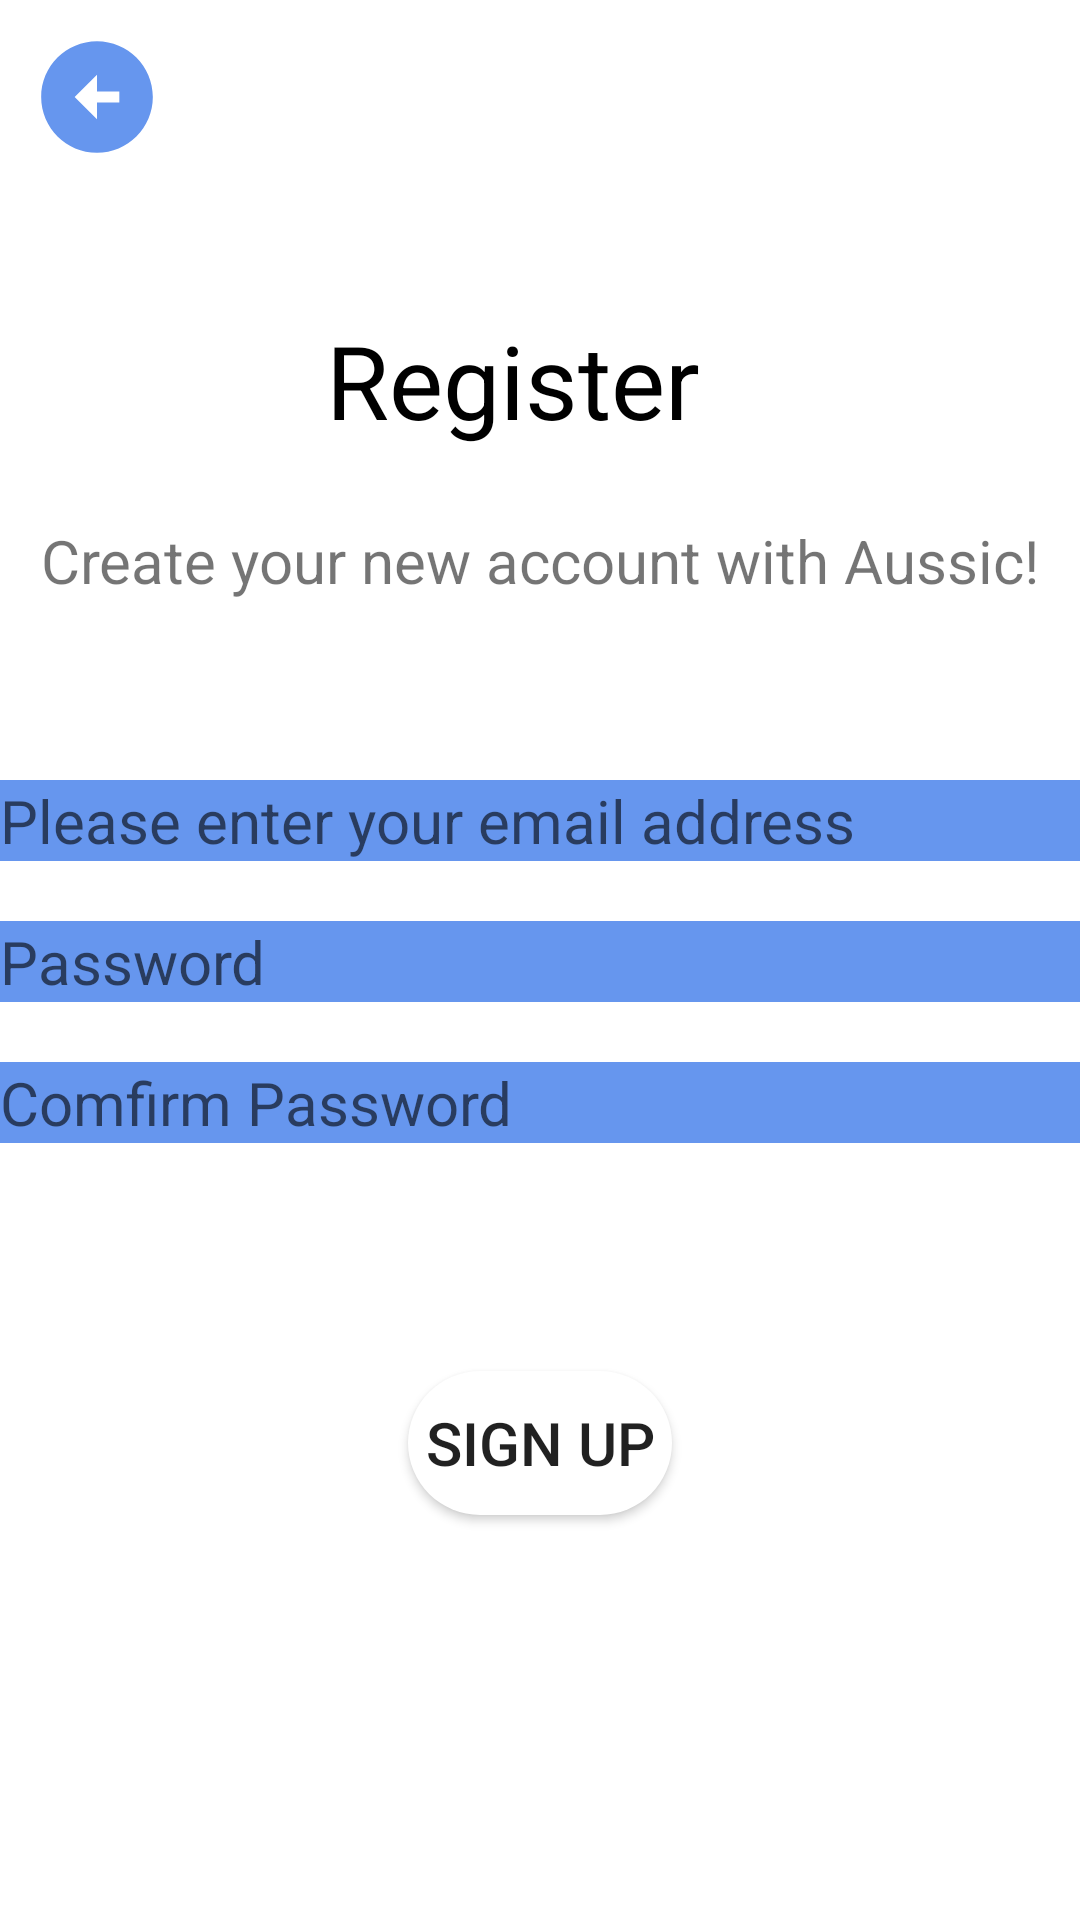

Icon click points for this 1080*1920 phone screenshot, format [x,y]:
arrow circle left: [97,97]
